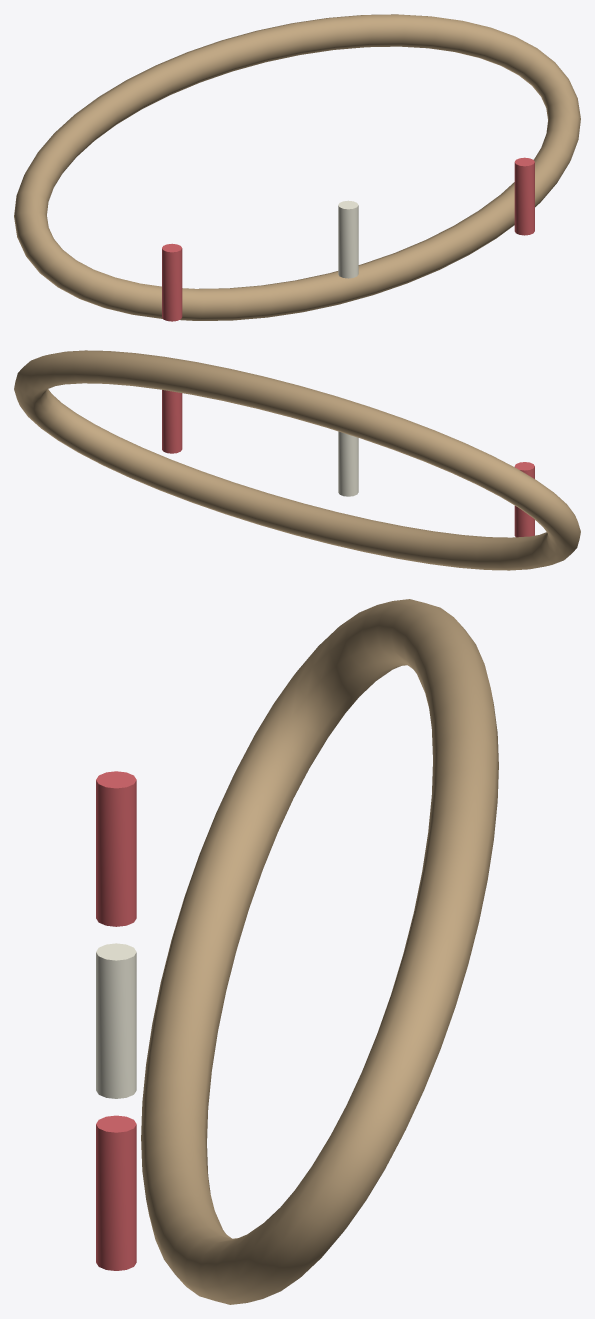
File: conch_jangseung_ward_Idle.glb
3 renders of one model, top to bottom at view 1: azimuth 30°, elevation 25°; view 2: azimuth 150°, elevation 25°; view 3: azimuth 270°, elevation 25°, orthographic. The views are drawn at different scales.
Bounding box in the file's own units: 25.3 × 9.49 × 7.92.
